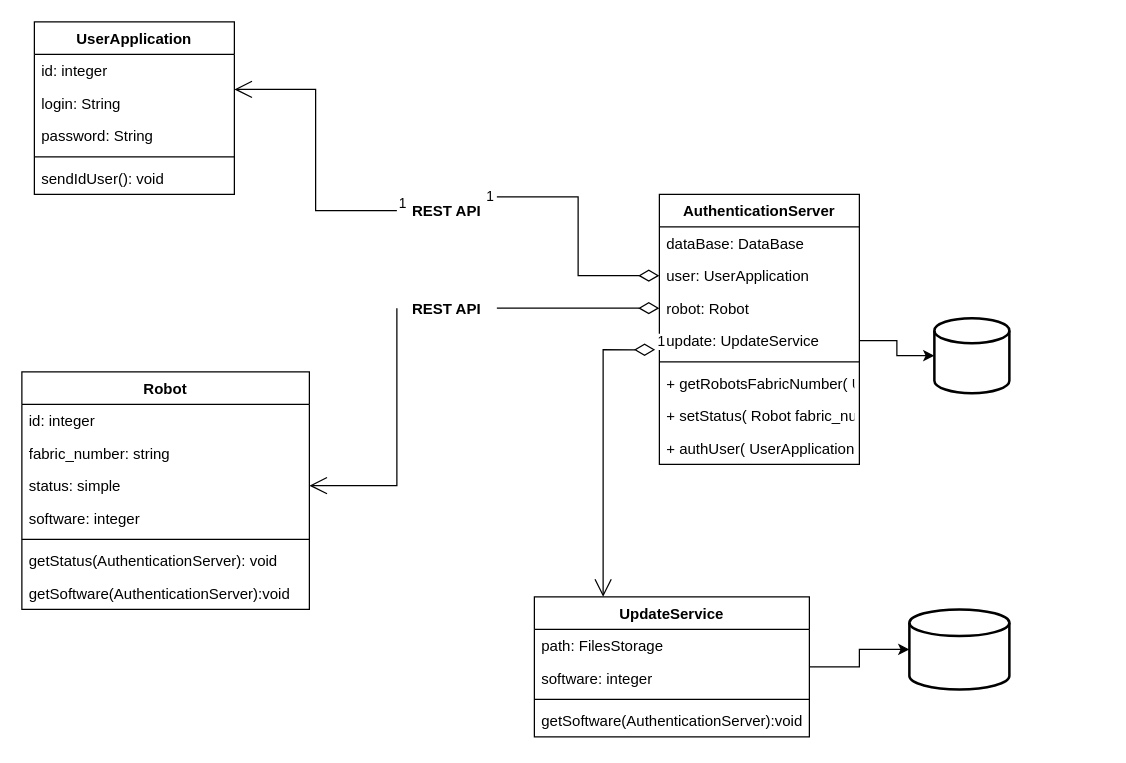
This 1126x763 diagram has some shape labels left out. The centre of each missing label's shape, as x and y in pixels:
"DB" goes at point 971,355.
"FilesStorage" goes at point 959,649.
